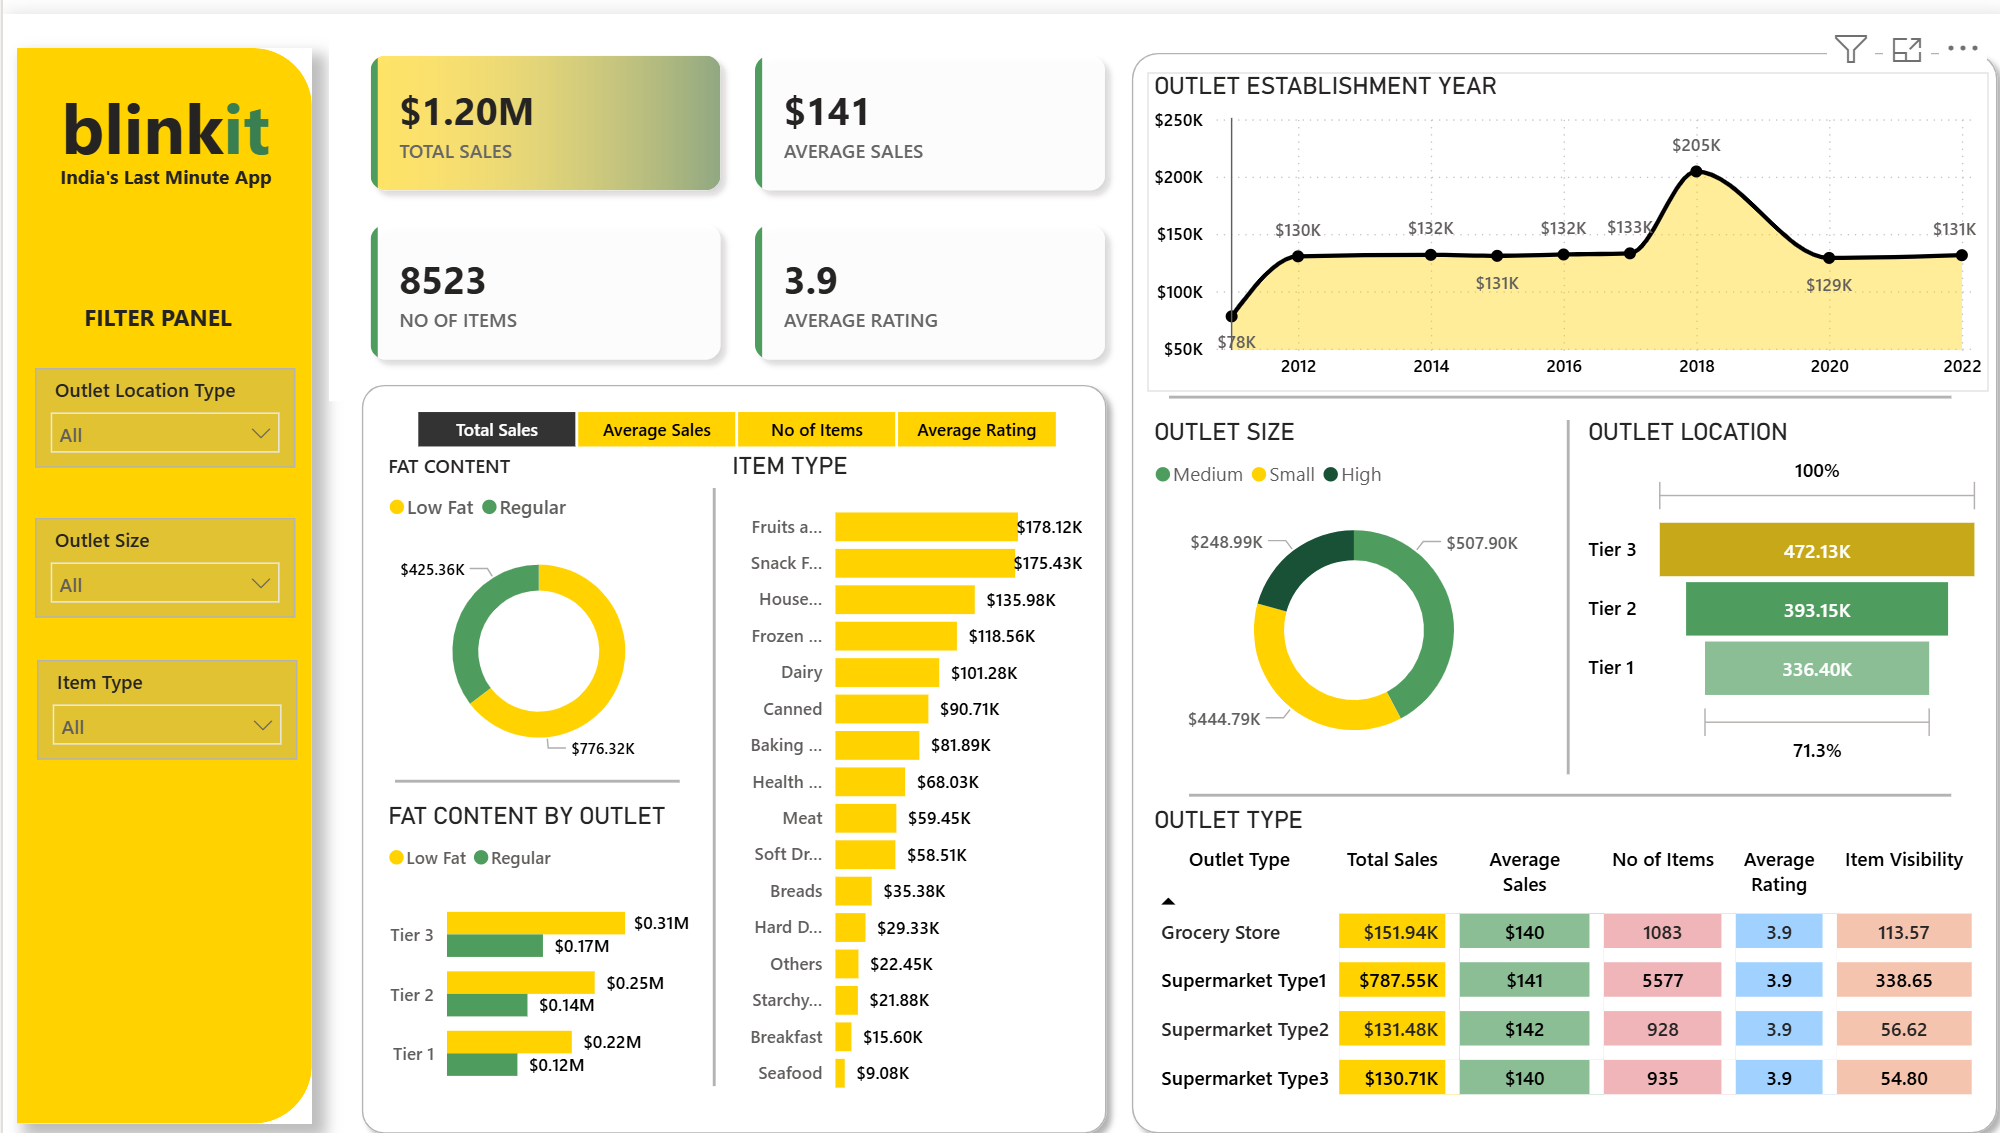

The dashboard page shown, as its layout file describes it:
{"tool":"powerbi","page":{"name":"Page 1","canvas":[1400,800],"ordinal":0},"visuals":[{"type":"shape","box":[10,24.3,205.7,750],"z":0},{"type":"textbox","box":[34.3,40,157.1,74.3],"z":1000},{"type":"textbox","box":[18.6,95.7,190,37.1],"z":2000},{"type":"cardVisual","fields":{"Data":["BlinkIT Grocery Data.Total Sales","BlinkIT Grocery Data.Average Sales","BlinkIT Grocery Data.No of Items","BlinkIT Grocery Data.Average Rating"]},"box":[227.1,0,570,270],"z":3000},{"type":"shape","box":[241.4,250,537.1,540],"z":4000},{"type":"donutChart","title":"FAT CONTENT","fields":{"Y":["BlinkIT Grocery Data.Total Sales"],"Category":["BlinkIT Grocery Data.Item Fat Content"]},"box":[262.9,305.7,220,230],"z":5000},{"type":"slicer","fields":{"Values":["Metrics.Metrics"]},"box":[262.9,270,494.3,35.7],"z":6000},{"type":"clusteredBarChart","title":"FAT CONTENT BY OUTLET","fields":{"Y":["BlinkIT Grocery Data.Total Sales"],"Category":["BlinkIT Grocery Data.Outlet Location Type"],"Series":["BlinkIT Grocery Data.Item Fat Content"]},"box":[262.9,550,220,214.3],"z":7000},{"type":"shape","box":[272.9,528.6,198.6,12.9],"z":8000},{"type":"shape","box":[490,330,12.9,417.1],"z":9000},{"type":"barChart","title":"ITEM TYPE","fields":{"Y":["BlinkIT Grocery Data.Total Sales"],"Category":["BlinkIT Grocery Data.Item Type"]},"box":[502.9,305.7,254.3,458.6],"z":10000},{"type":"shape","box":[778.6,18.6,621.4,771.4],"z":11000},{"type":"lineChart","title":"OUTLET ESTABLISHMENT YEAR","fields":{"Category":["BlinkIT Grocery Data.Outlet Establishment Year"],"Y":["BlinkIT Grocery Data.Total Sales"]},"box":[797.1,40,587.1,222.9],"z":12000},{"type":"shape","box":[812.9,262.9,545.7,7.1],"z":13000},{"type":"donutChart","title":"OUTLET SIZE","fields":{"Y":["BlinkIT Grocery Data.Total Sales"],"Category":["BlinkIT Grocery Data.Outlet Size"]},"box":[797.1,281.4,288.6,247.1],"z":14000},{"type":"shape","box":[1084.3,282.9,12.9,247.1],"z":15000},{"type":"funnel","title":"OUTLET LOCATION","fields":{"Category":["BlinkIT Grocery Data.Outlet Location Type"],"Y":["Sum(BlinkIT Grocery Data.Sales)"]},"box":[1100,281.4,284.3,247.1],"z":16000},{"type":"pivotTable","title":"OUTLET TYPE","fields":{"Rows":["BlinkIT Grocery Data.Outlet Type"],"Values":["BlinkIT Grocery Data.Total Sales","BlinkIT Grocery Data.Average Sales","BlinkIT Grocery Data.No of Items","BlinkIT Grocery Data.Average Rating","Sum(BlinkIT Grocery Data.Item Visibility)"]},"box":[797.1,552.9,587.1,211.4],"z":17000},{"type":"shape","box":[827.1,538.6,531.4,12.9],"z":17001}]}

Visuals, with their boxes in screenshot pixels (x1, y1, x2, y2), scaled from the page's 1400x800 canvas onto the 2000x1133 screenshot:
shape: box=[14, 34, 308, 1097]
textbox: box=[49, 57, 273, 162]
textbox: box=[27, 136, 298, 188]
cardVisual - BlinkIT Grocery Data.Total Sales x BlinkIT Grocery Data.Average Sales: box=[324, 0, 1139, 382]
shape: box=[345, 354, 1112, 1119]
"FAT CONTENT" donutChart: box=[376, 433, 690, 759]
slicer - Metrics.Metrics: box=[376, 382, 1082, 433]
"FAT CONTENT BY OUTLET" clusteredBarChart: box=[376, 779, 690, 1082]
shape: box=[390, 749, 674, 767]
shape: box=[700, 467, 718, 1058]
"ITEM TYPE" barChart: box=[718, 433, 1082, 1082]
shape: box=[1112, 26, 1999, 1119]
"OUTLET ESTABLISHMENT YEAR" lineChart: box=[1139, 57, 1977, 372]
shape: box=[1161, 372, 1941, 382]
"OUTLET SIZE" donutChart: box=[1139, 399, 1551, 748]
shape: box=[1549, 401, 1567, 751]
"OUTLET LOCATION" funnel: box=[1571, 399, 1978, 748]
"OUTLET TYPE" pivotTable: box=[1139, 783, 1977, 1082]
shape: box=[1182, 763, 1941, 781]
